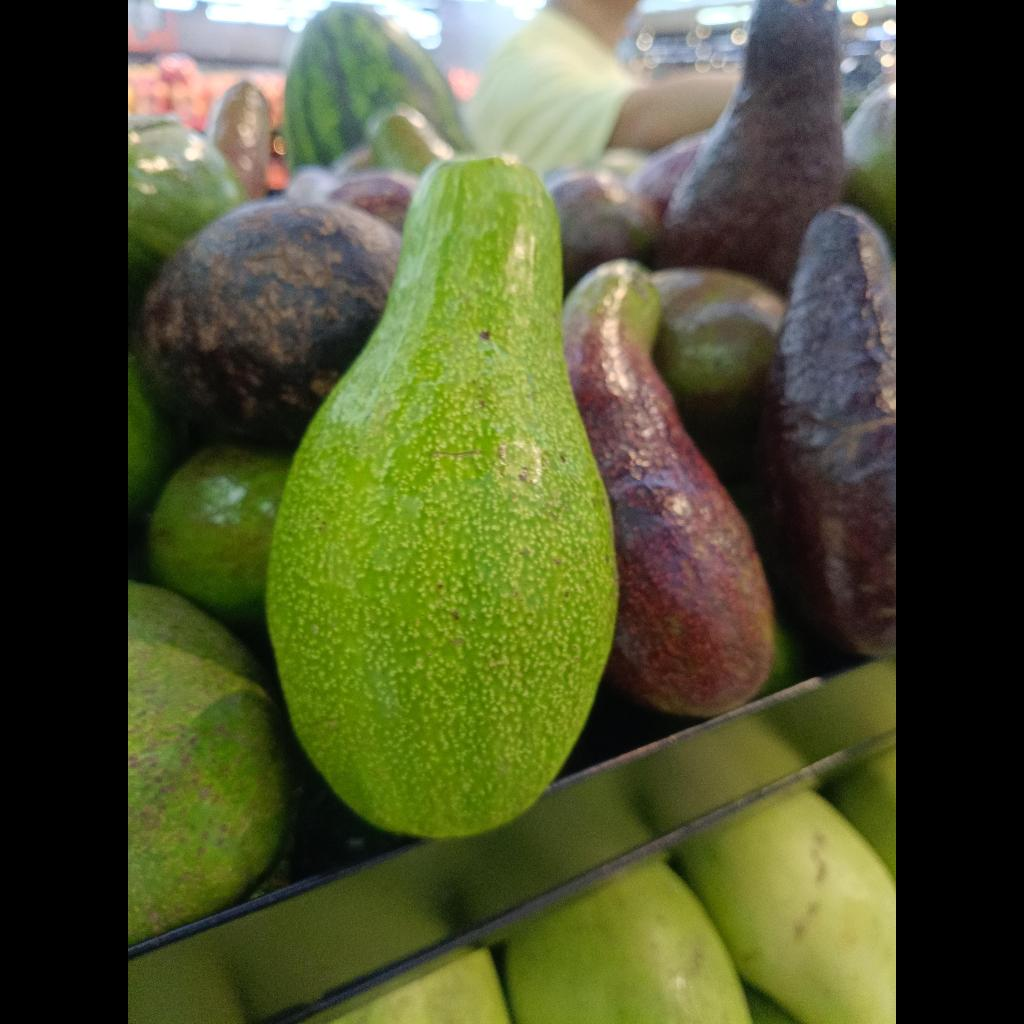fruto_sano: (267, 157, 618, 838)
